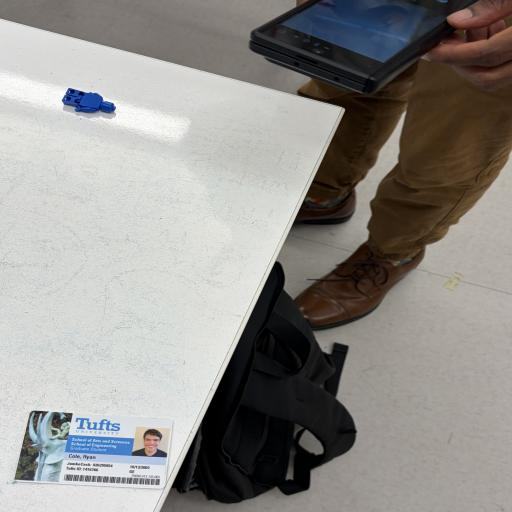Blue-Lego: (62, 88, 116, 119)
